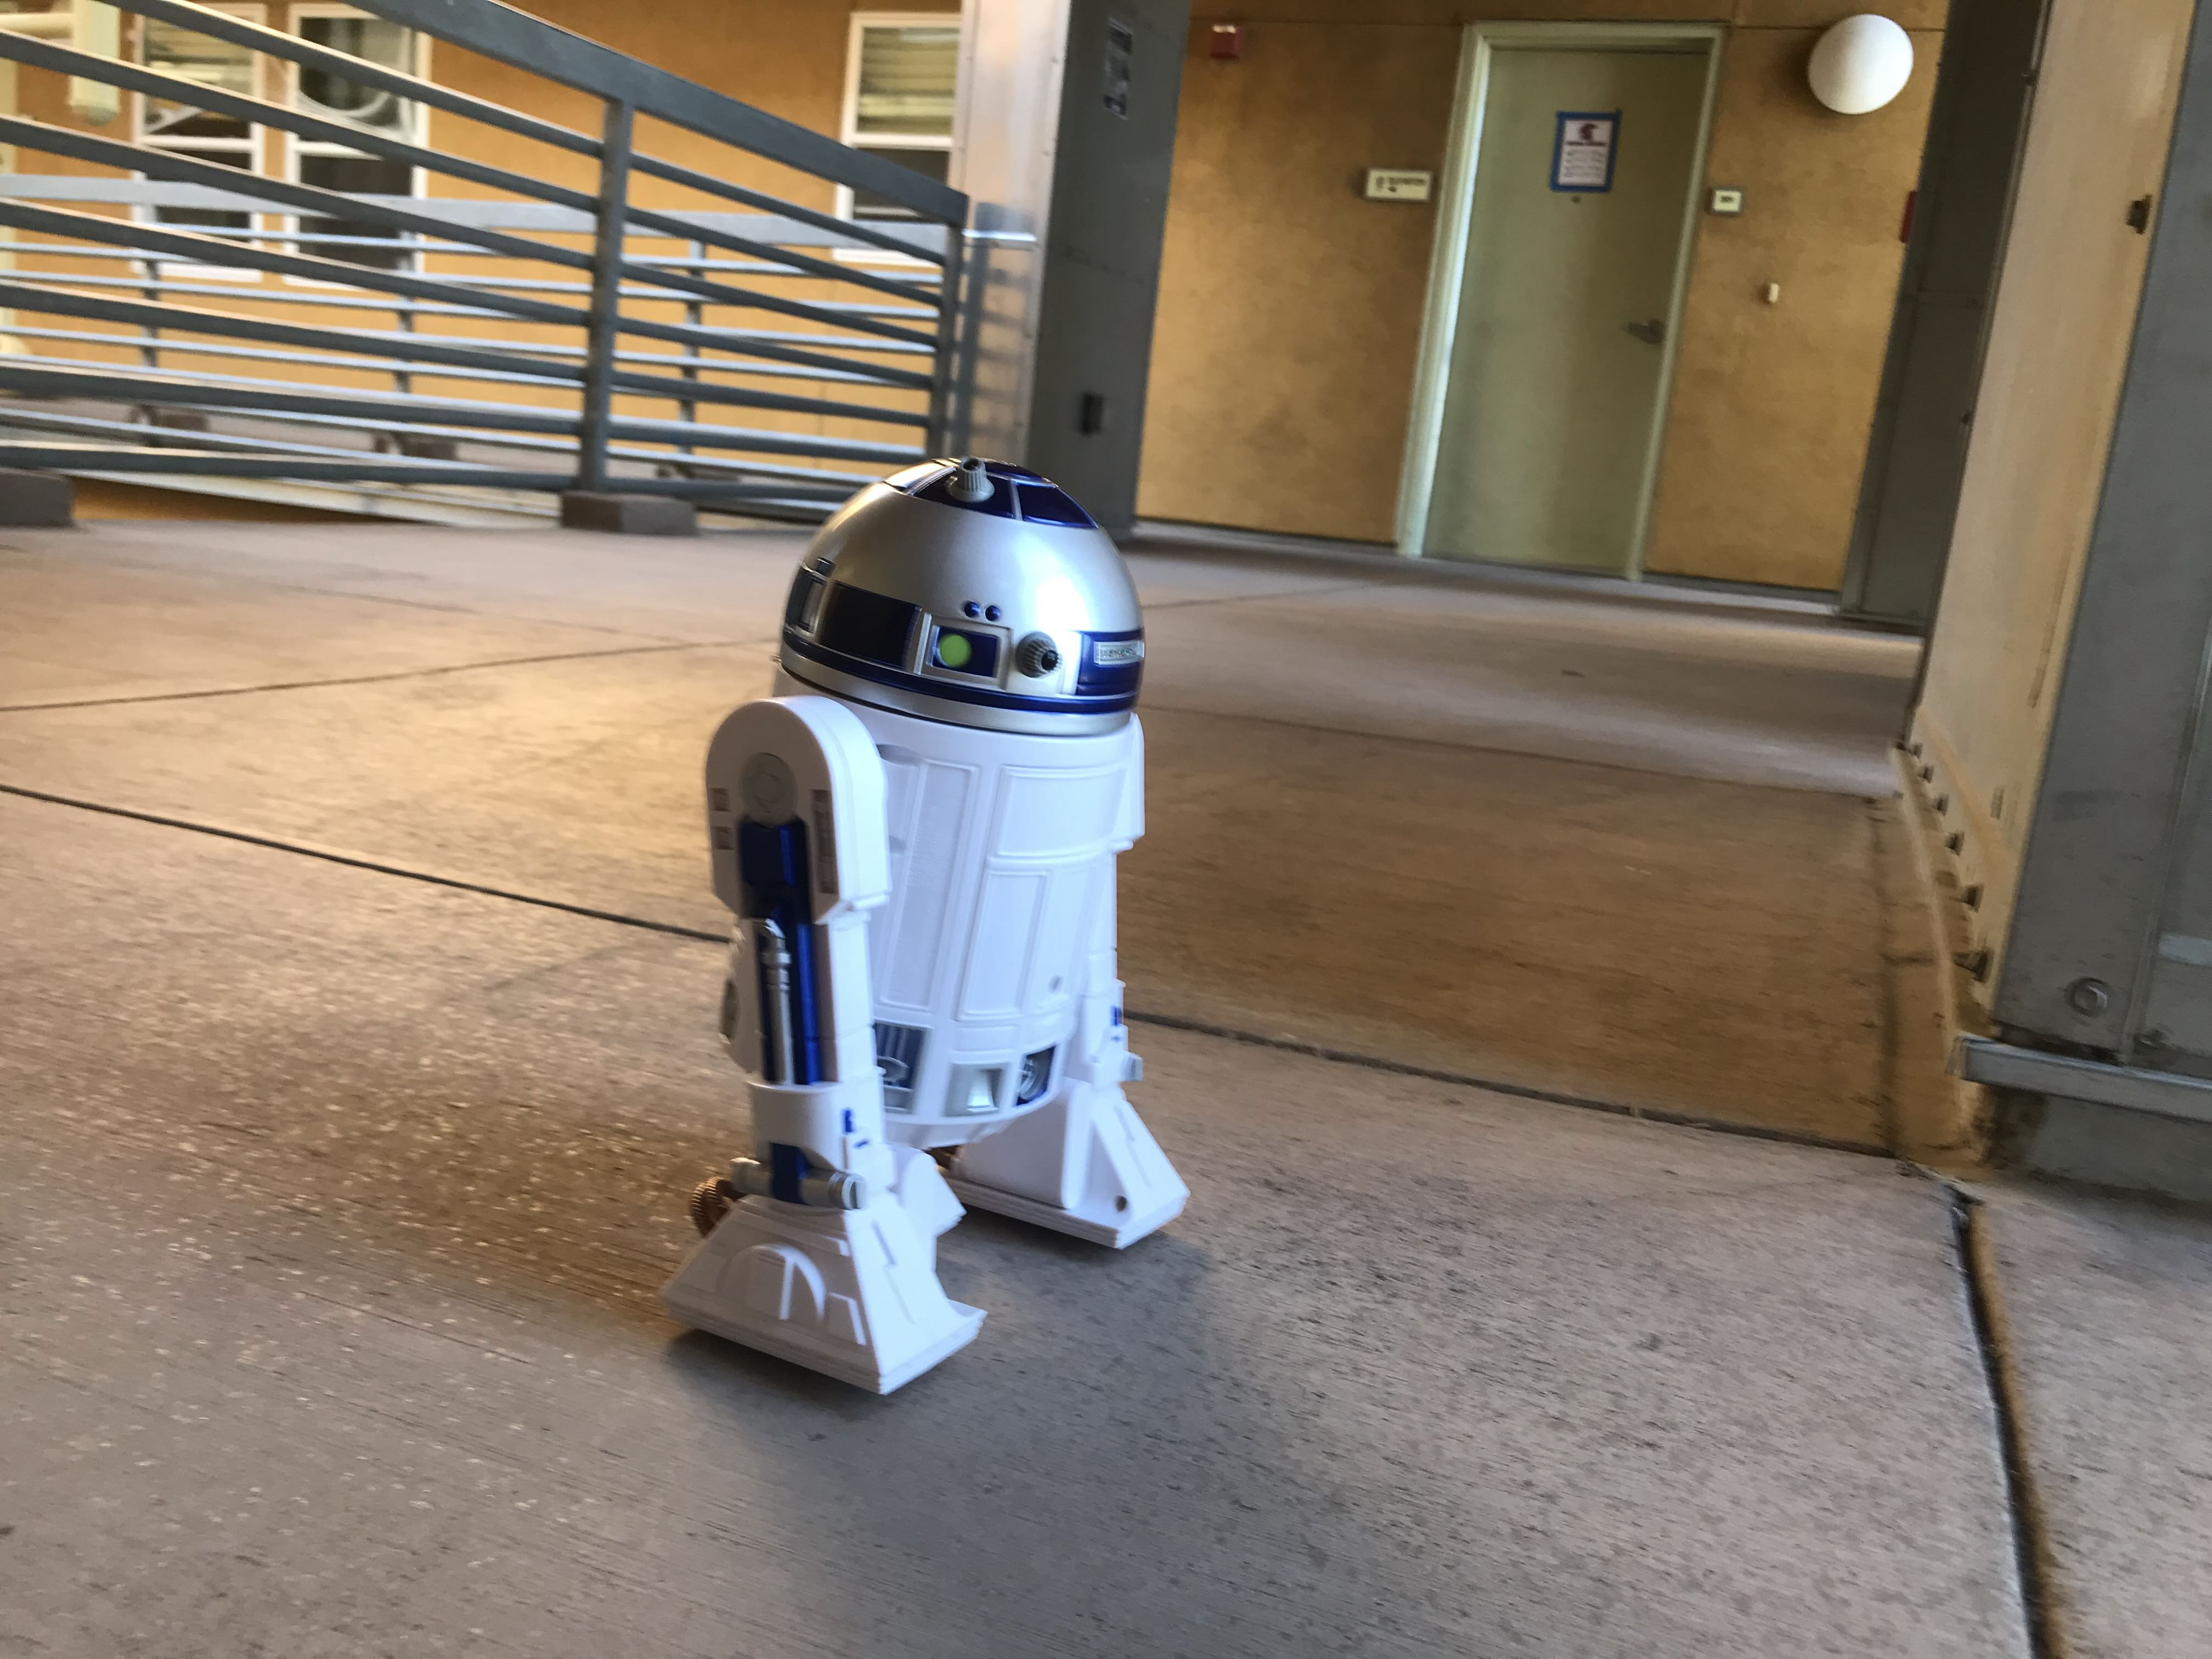r2d2: (672, 455, 1198, 1394)
